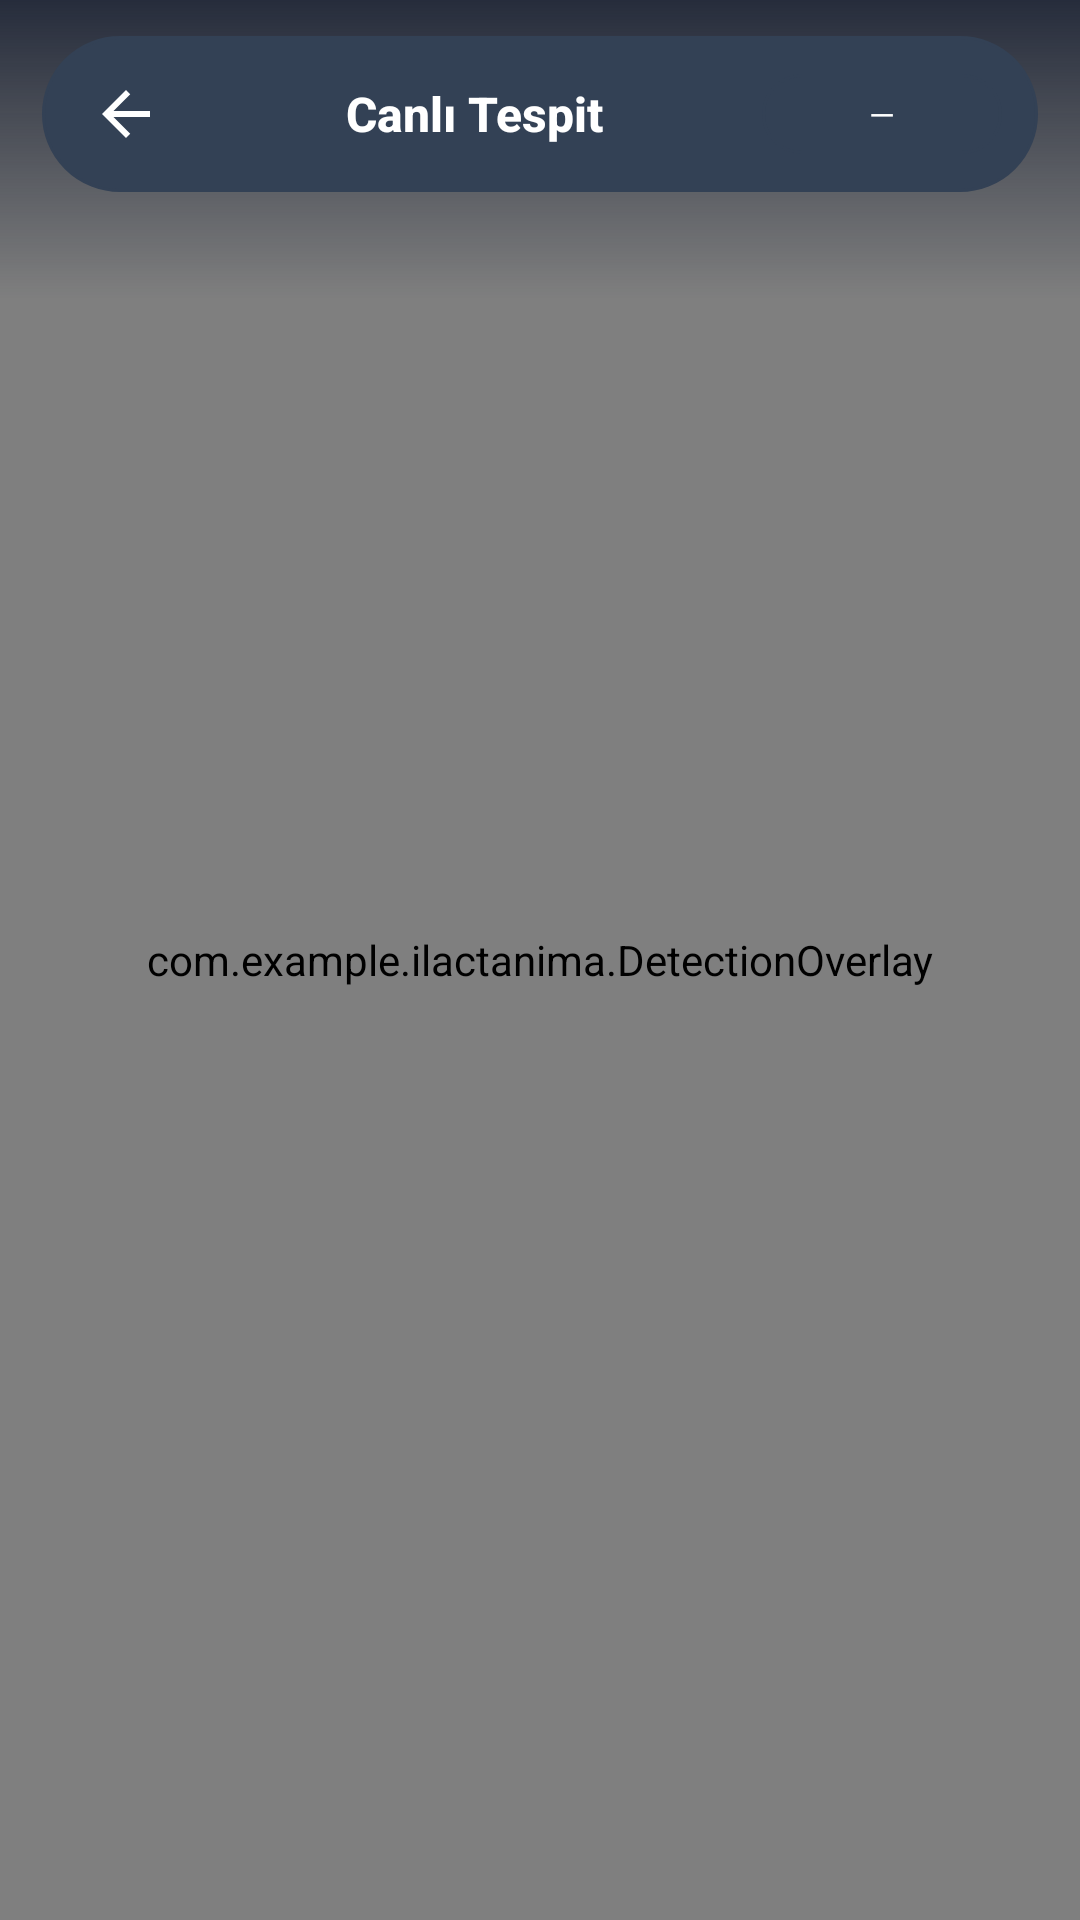

Where to tap for icons on this 1080px×1920px app screen, as [x,y]:
Geri: [126,114]
